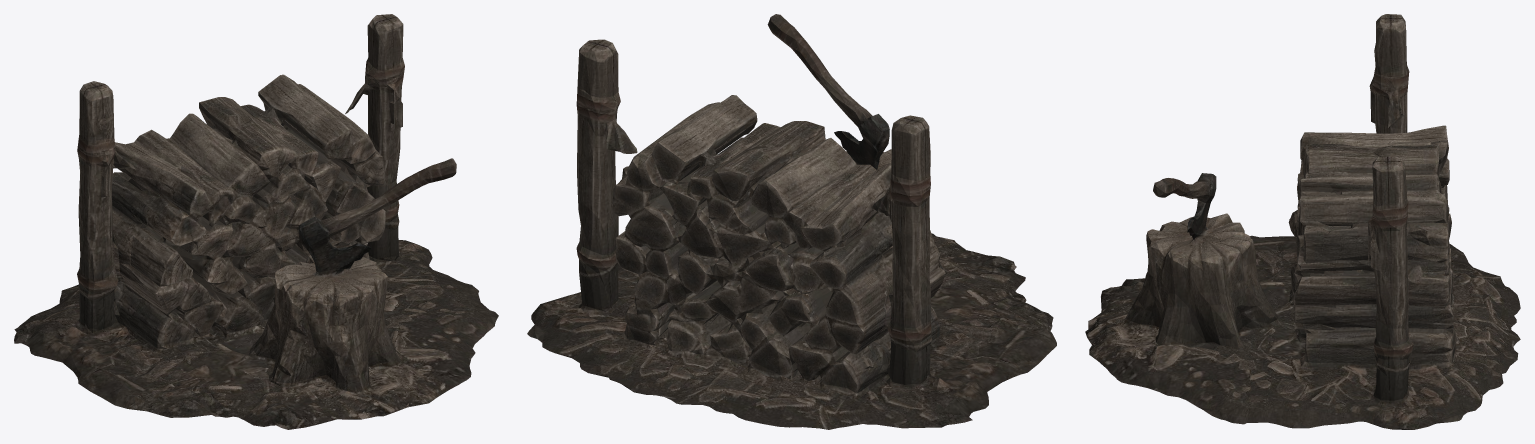
The model's file is woodpile.glb.
The picture shows the model from 3 angles, left to right: view 1: azimuth 30°, elevation 25°; view 2: azimuth 150°, elevation 25°; view 3: azimuth 270°, elevation 25°; orthographic projection. The views are drawn at different scales.
Visible parts, largest first — view 1: lo; view 2: lo; view 3: lo.
Boxes of the visible parts, <box> form: lo: <box>14,14,498,429</box>; lo: <box>527,14,1056,429</box>; lo: <box>1085,14,1520,429</box>.
Bounding box in the file's own units: 2.18 × 1.29 × 2.04.
1 material, 1 textured.
